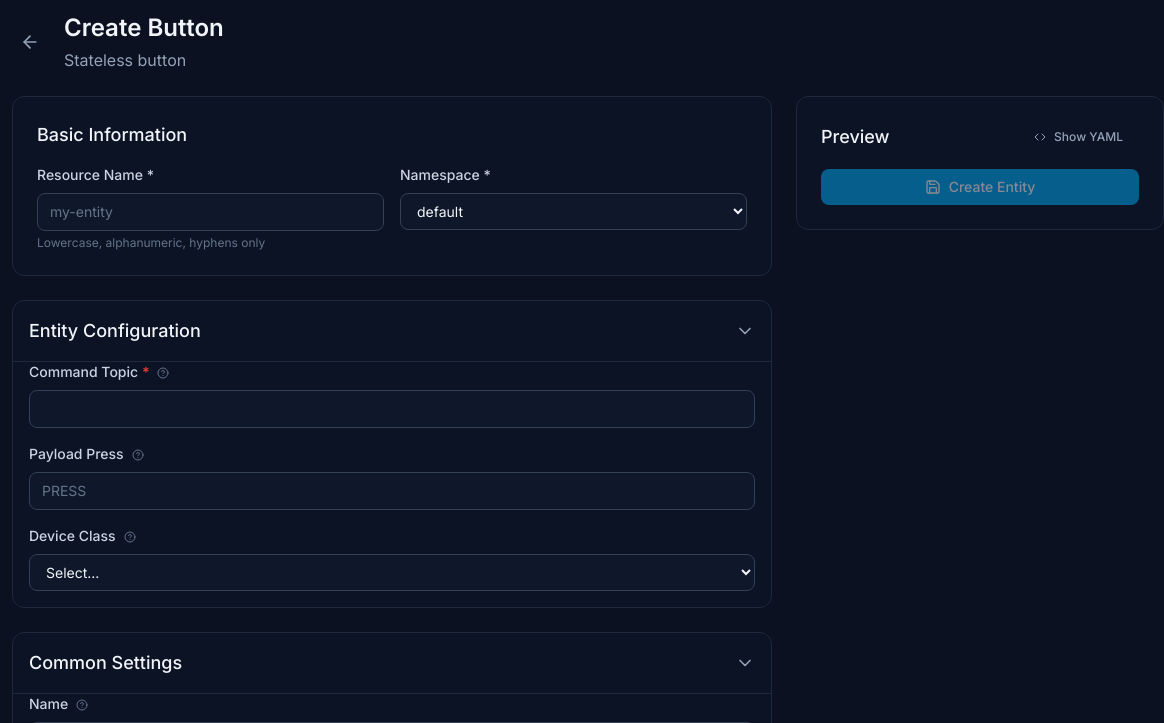
Test: EntityCreatePage › basic information form › validates resource name format
Type "Invalid Name!" into the field with placeholder "my-entity" at (210, 212), box [37, 193, 384, 231]
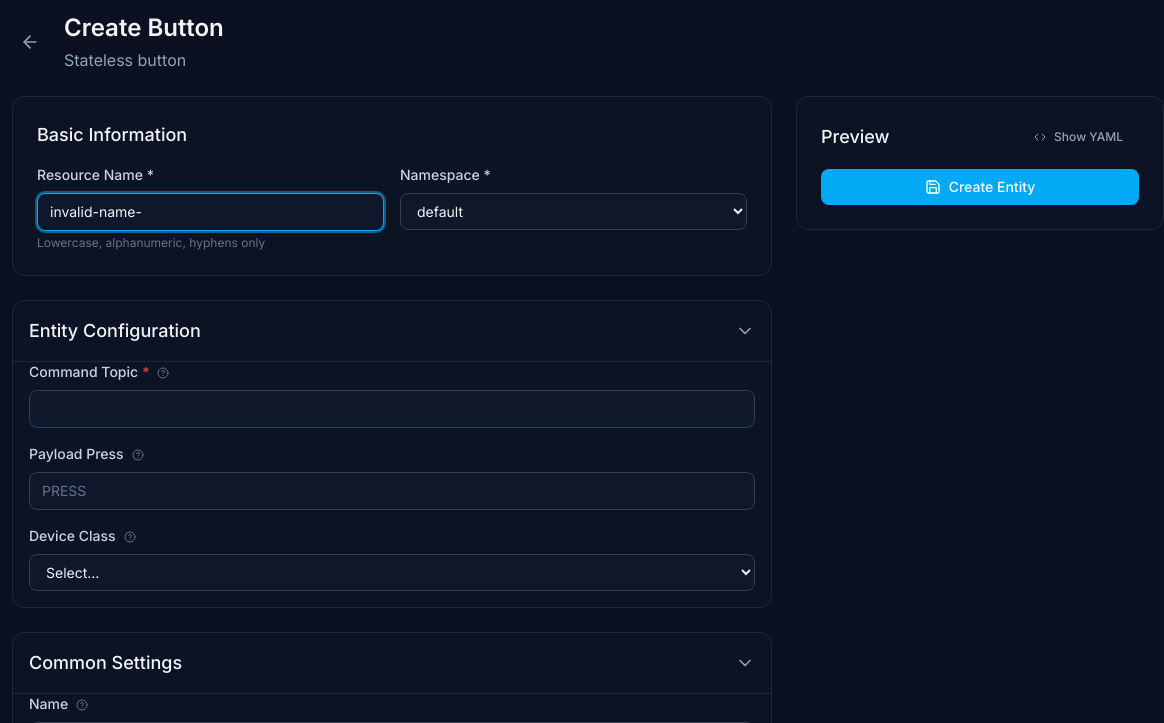
Check: the field with placeholder "my-entity" holds "invalid-name-", box [37, 193, 384, 231]
